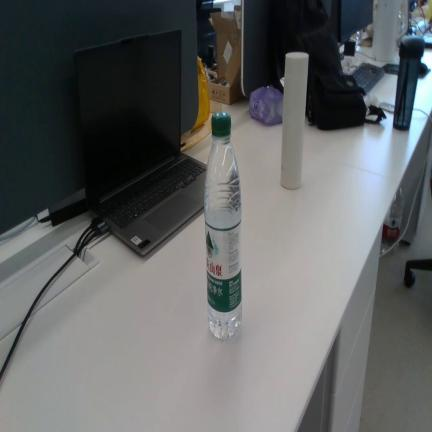bottle: (204, 112, 242, 339)
